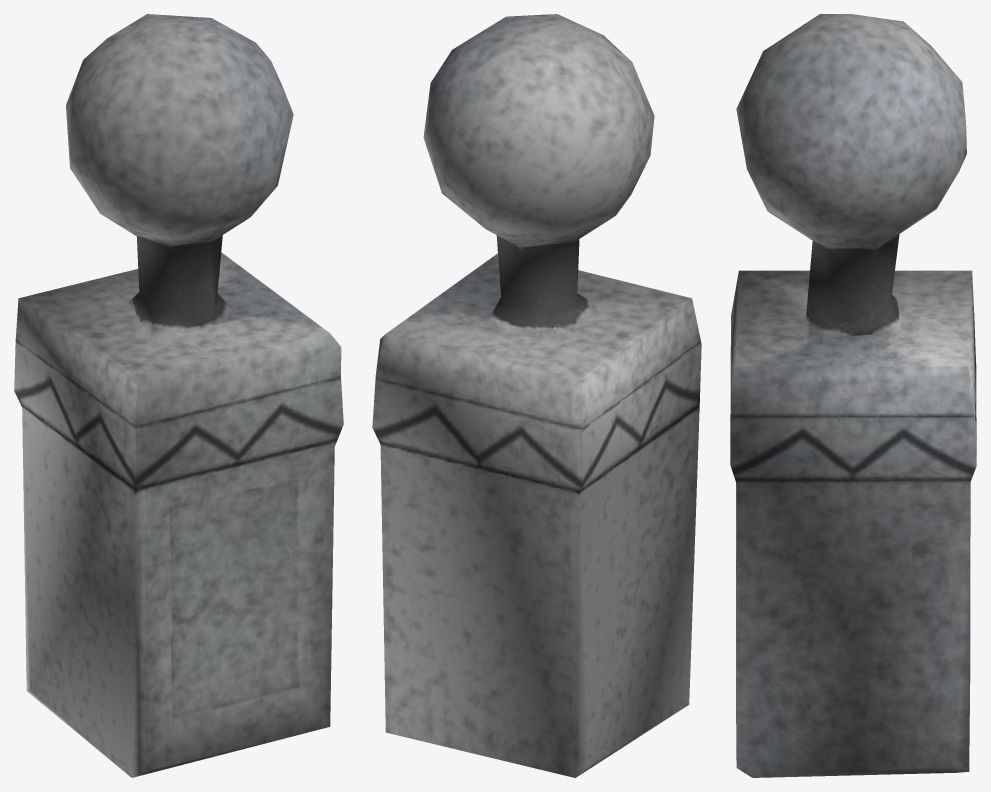
File: post_square_w_far.glb
The picture shows the model from 3 angles, left to right: view 1: azimuth 30°, elevation 25°; view 2: azimuth 150°, elevation 25°; view 3: azimuth 270°, elevation 25°; orthographic projection. The views are drawn at different scales.
Visible parts, largest first — view 1: post_square_w_lod1; view 2: post_square_w_lod1; view 3: post_square_w_lod1.
Part boxes in pixels (bbox=[...]): post_square_w_lod1: bbox=[14, 14, 343, 777]; post_square_w_lod1: bbox=[372, 14, 701, 777]; post_square_w_lod1: bbox=[730, 14, 976, 777].
Size of the model in its own units: 0.2826 by 0.8936 by 0.2829.
1 material, 1 textured.
